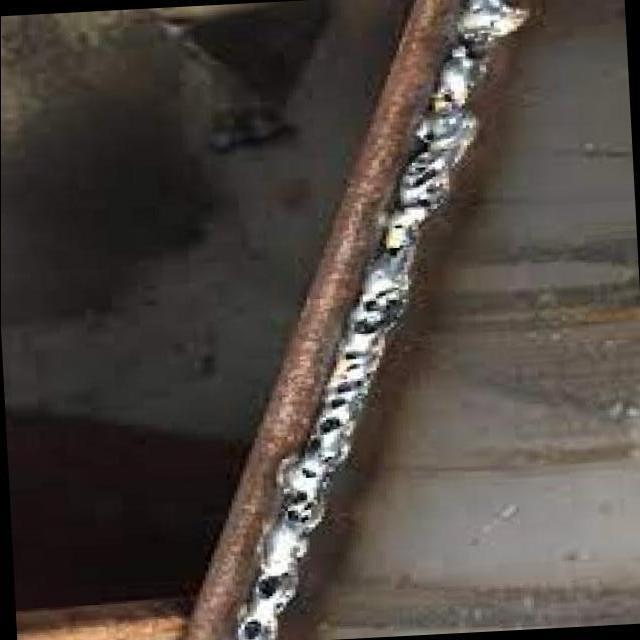defect: (347, 286, 405, 339), (405, 152, 449, 213), (325, 348, 362, 412), (276, 485, 327, 529), (303, 411, 343, 455), (255, 568, 296, 600), (449, 27, 485, 63), (236, 616, 277, 640), (414, 123, 445, 145), (383, 240, 409, 261), (296, 464, 321, 481), (439, 91, 459, 107), (390, 223, 405, 232)
